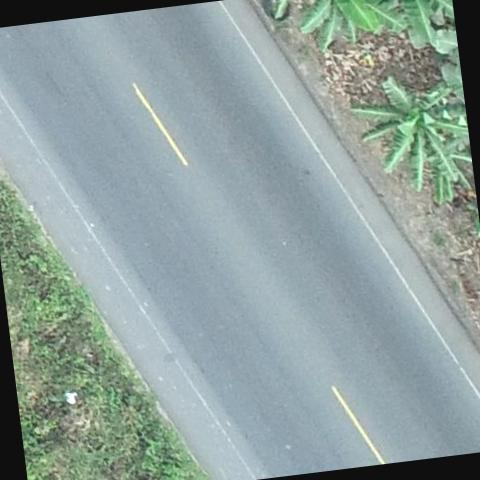Banana-plant: (351, 69, 473, 195)
